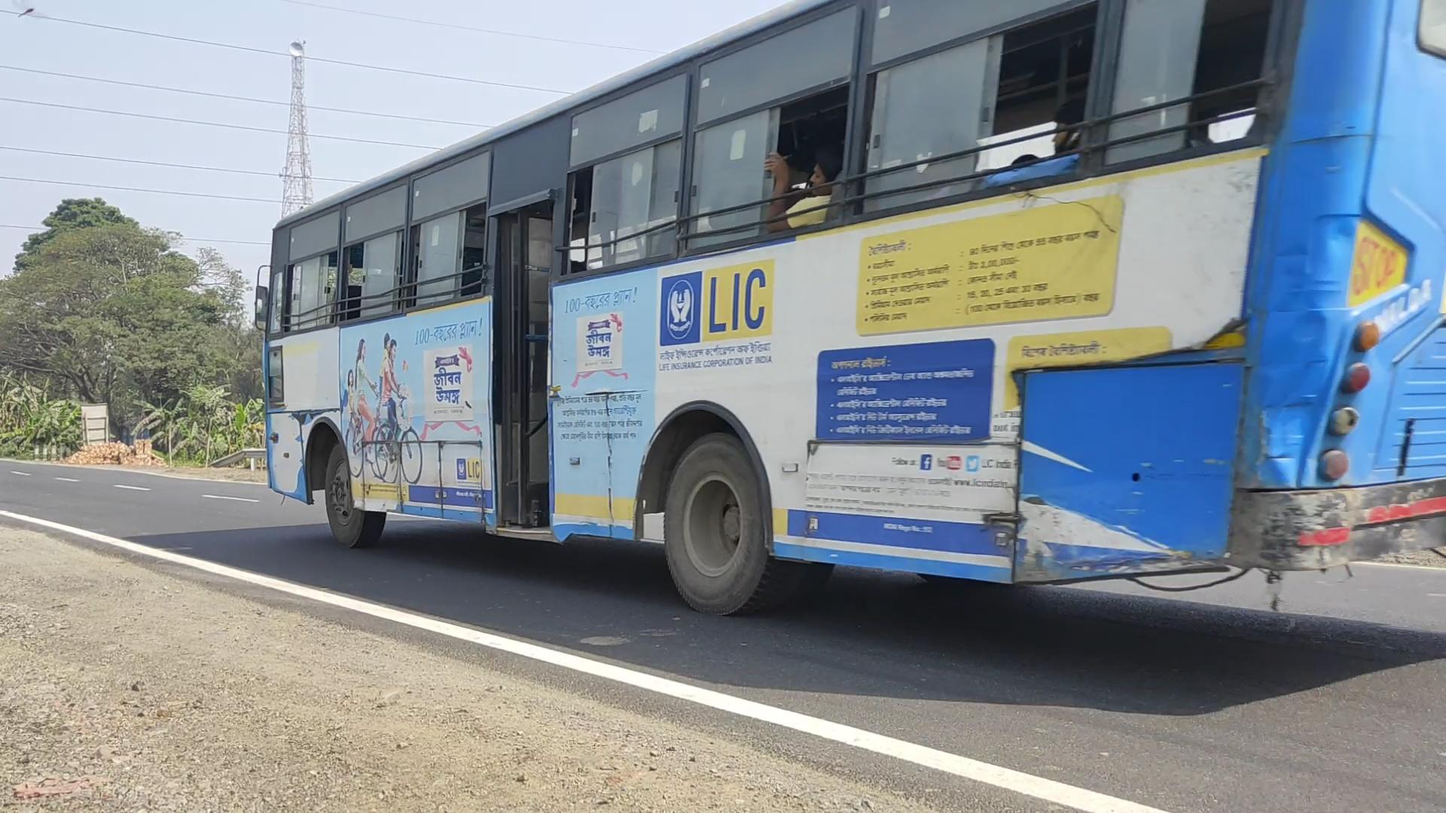Bus: (252, 3, 1446, 614)
